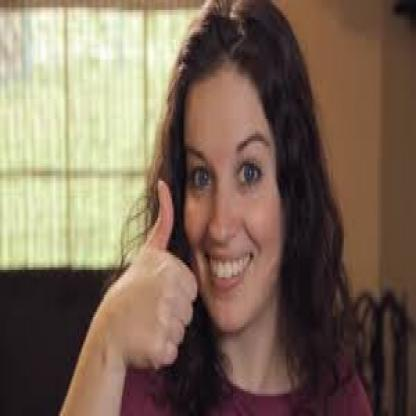thumb_up: (104, 176, 201, 376)
